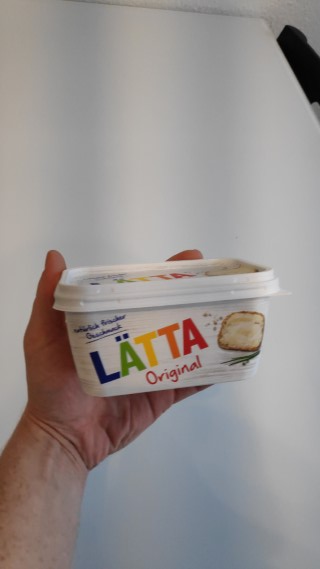laetta: (51, 255, 293, 398)
